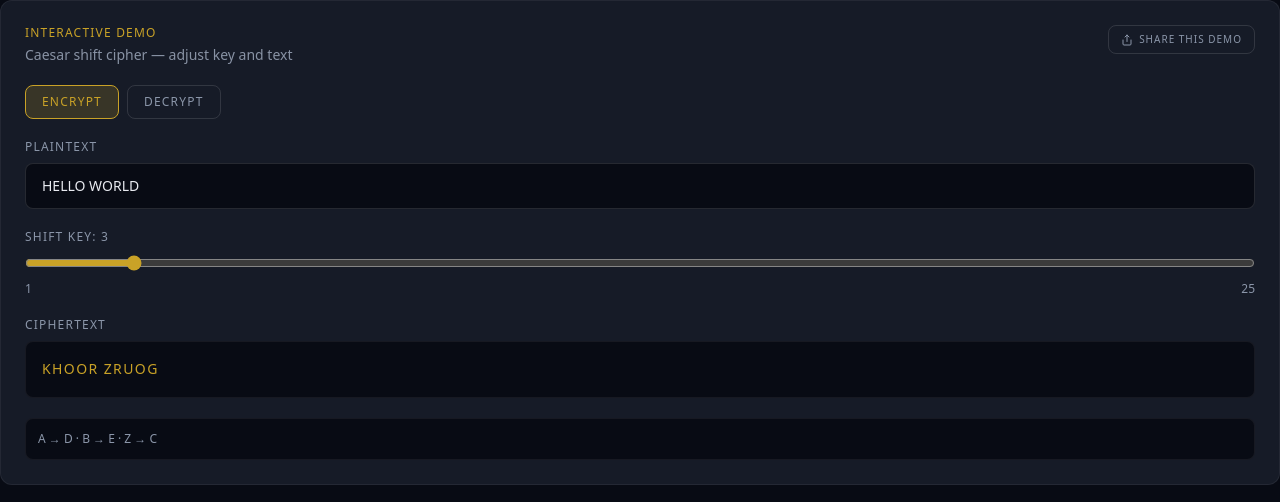
Test case: CaesarDemo › updates output when shift changes
The image size is (1280, 502).
Set the slider with test id "caesar-shift" to "1" at (33, 263), box [25, 255, 1255, 271]
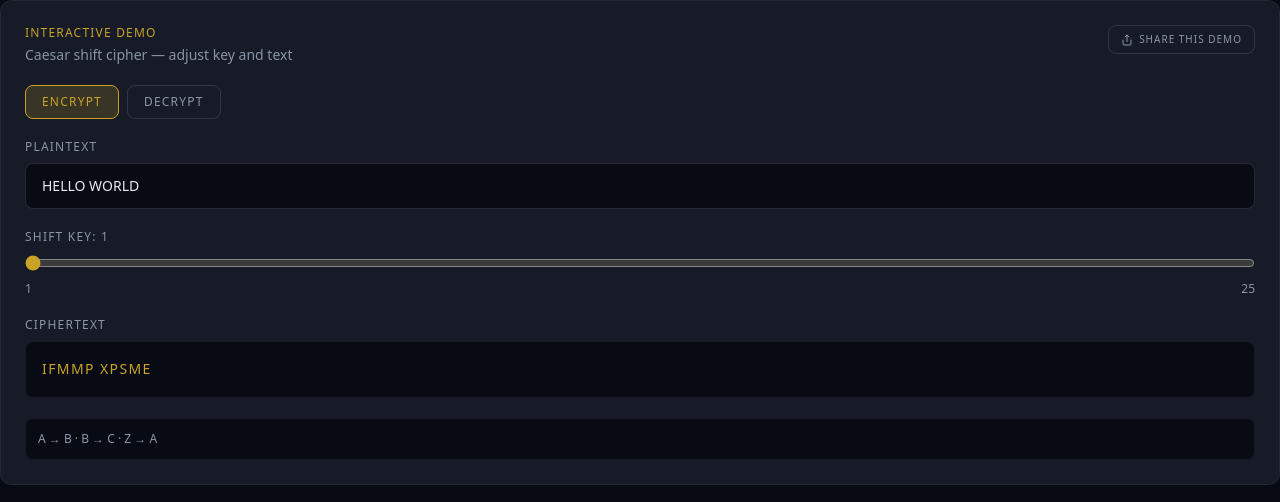
Expected: the message with test id "caesar-output" reads "IFMMP XPSME", [42, 359, 152, 378]
